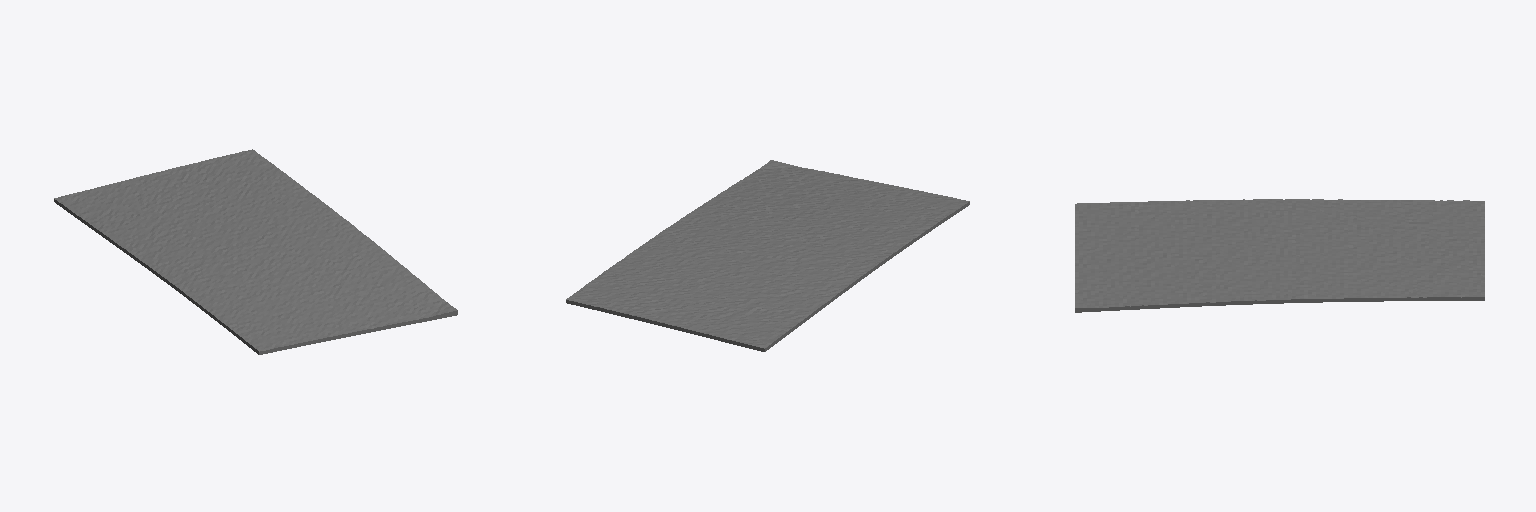
File: fill.obj
The picture shows the model from 3 angles: view 1: azimuth 30°, elevation 25°; view 2: azimuth 150°, elevation 25°; view 3: azimuth 270°, elevation 25°; orthographic projection.
Visible parts, largest first — view 1: IfcGeotechnicalStratum/A; view 2: IfcGeotechnicalStratum/A; view 3: IfcGeotechnicalStratum/A.
Part boxes in pixels (left/top/right/bottom): IfcGeotechnicalStratum/A: left=54, top=149, right=457, bottom=354; IfcGeotechnicalStratum/A: left=566, top=160, right=969, bottom=351; IfcGeotechnicalStratum/A: left=1075, top=199, right=1484, bottom=312.
Size of the model in its own units: 57 by 4.58 by 102.